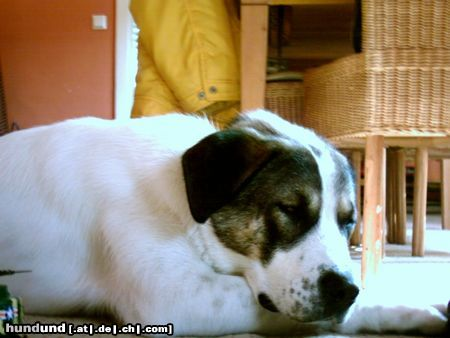kangal: (0, 108, 450, 338)
